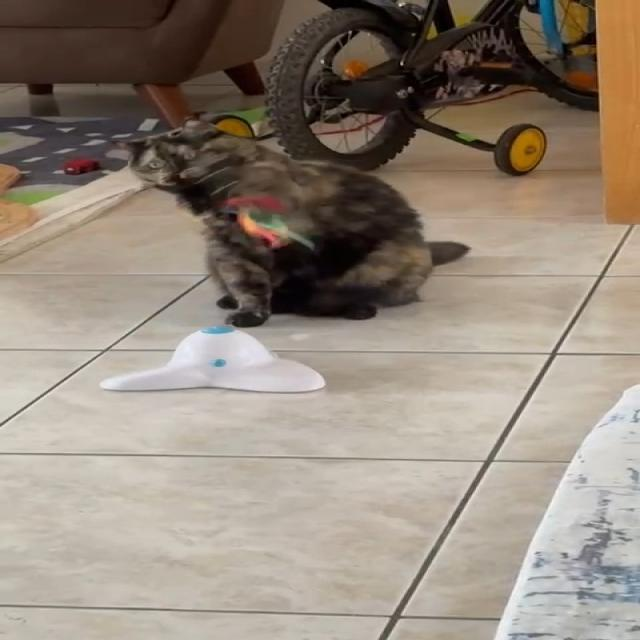authorized: (110, 115, 470, 328)
